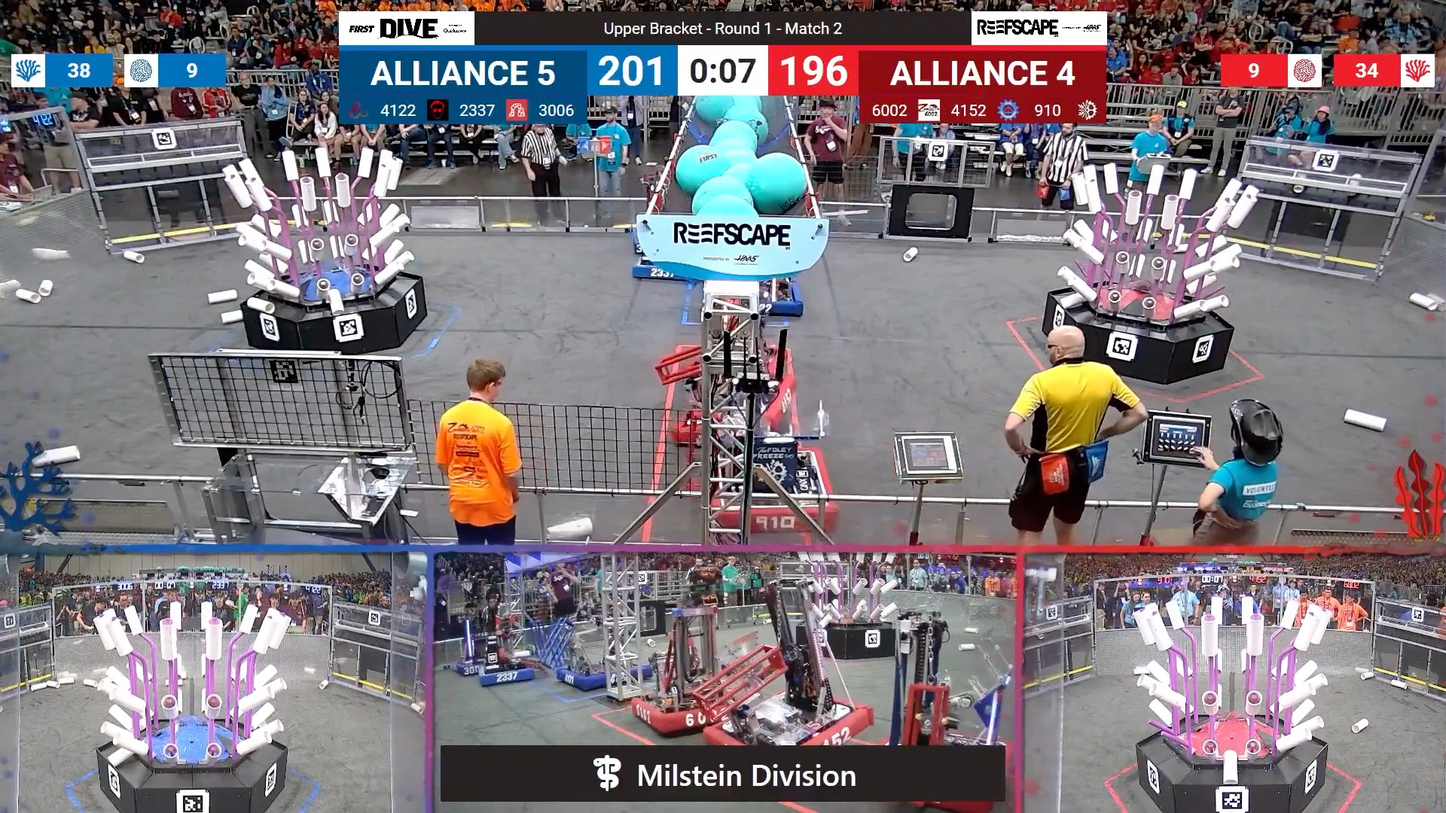bumpers: (702, 452, 837, 535), (704, 701, 874, 749), (452, 658, 541, 688), (749, 282, 807, 317), (550, 663, 625, 690), (624, 260, 677, 281)
